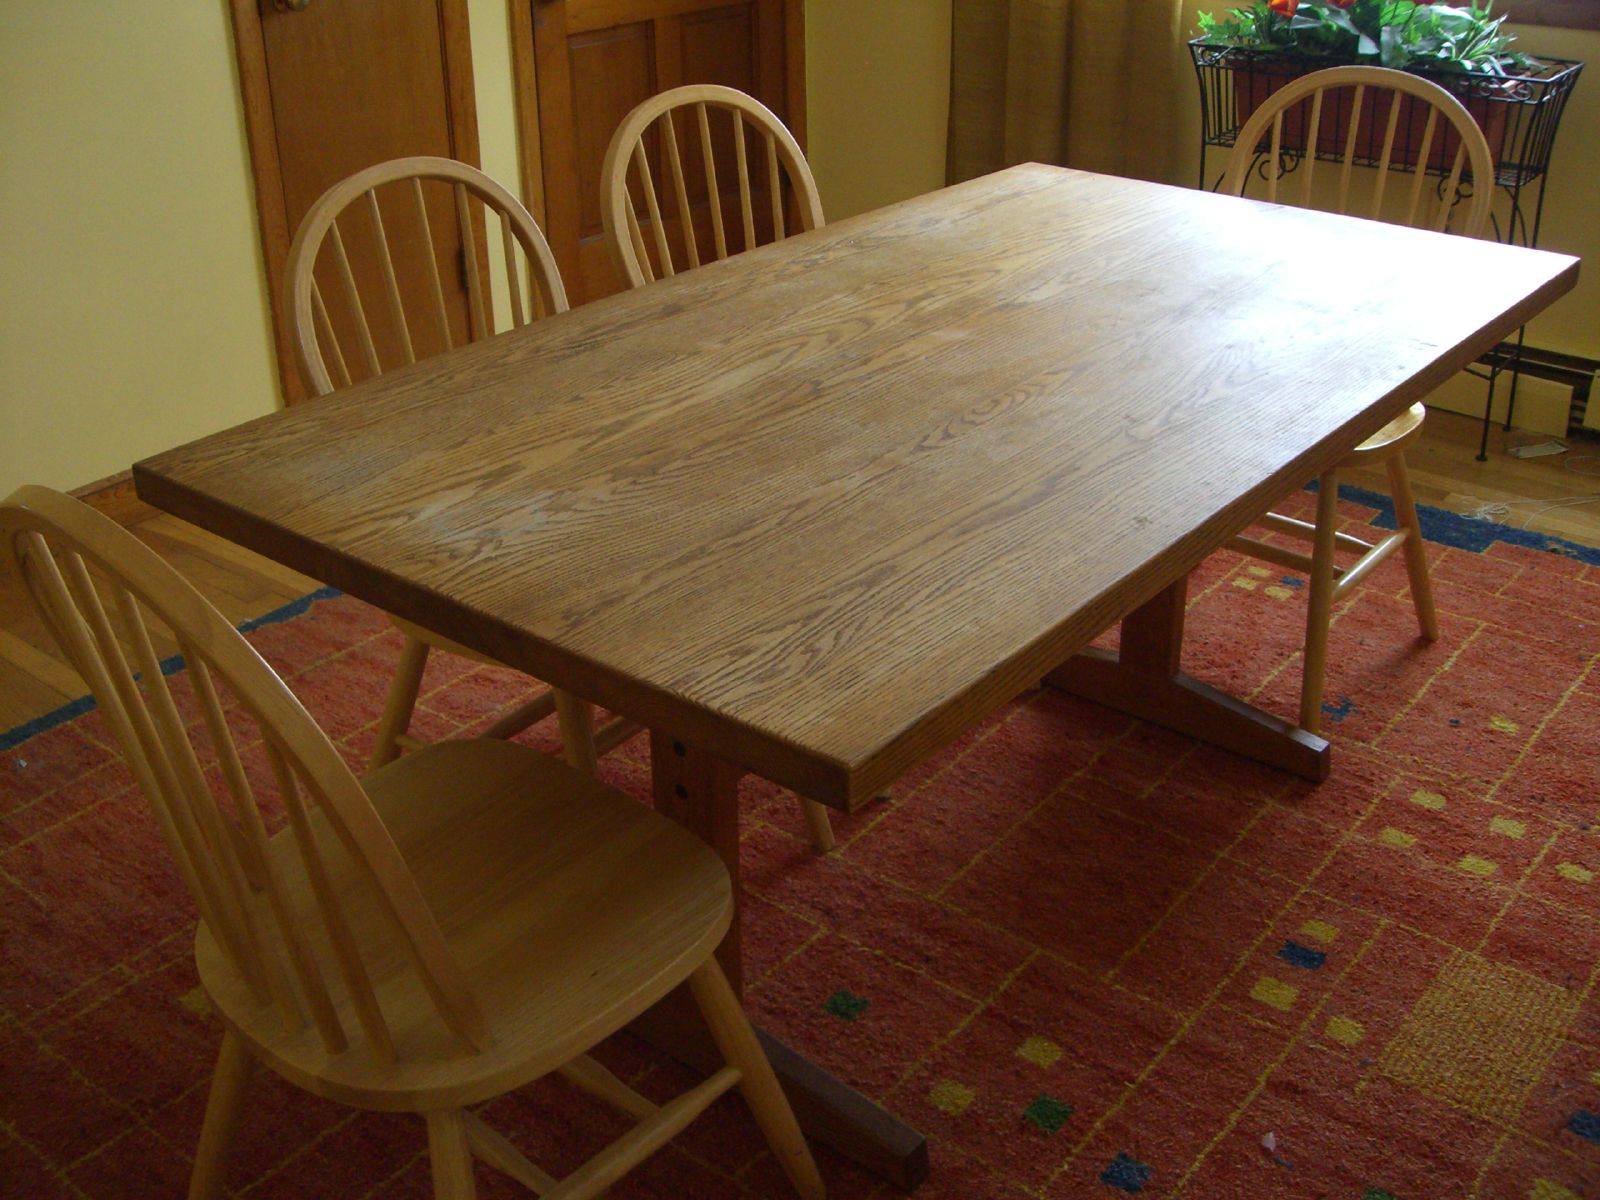chair: (11, 459, 808, 1191)
dining table: (134, 190, 1584, 1129)
